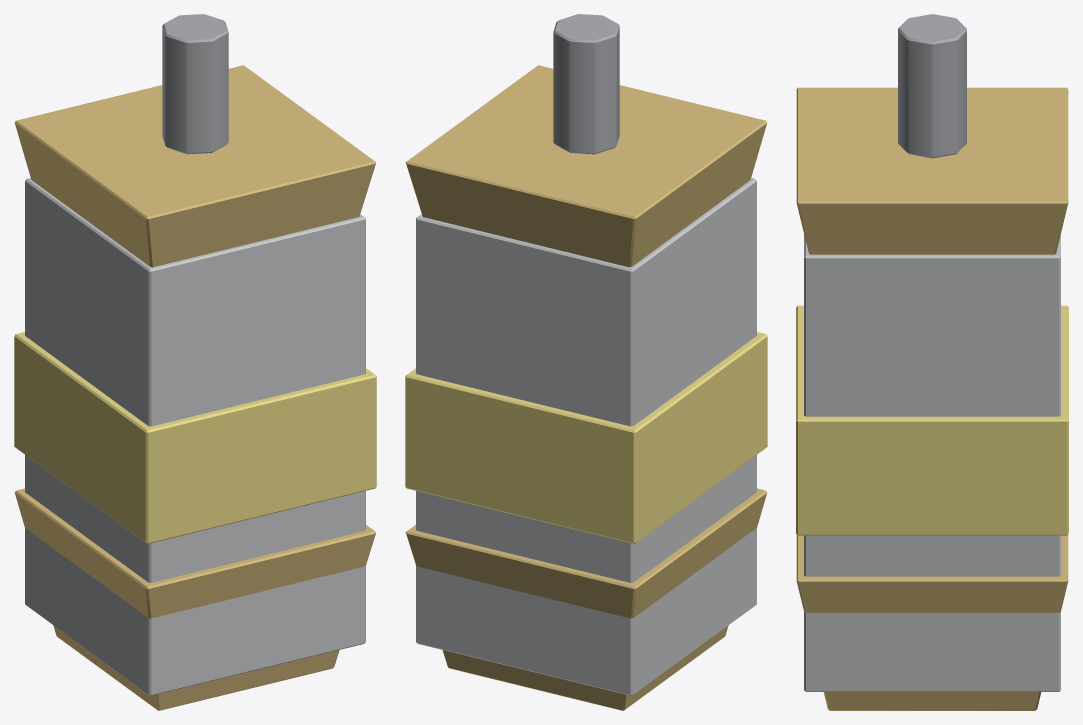
File: IT_fuse_hi.fbx
3 views of the same model, side by side, from view 1: azimuth 30°, elevation 25°; view 2: azimuth 150°, elevation 25°; view 3: azimuth 270°, elevation 25° (orthographic). The views are drawn at different scales.
Parts seen in each view (by area): view 1: IT_fuse_hi; view 2: IT_fuse_hi; view 3: IT_fuse_hi.
Part boxes in pixels (x1,y1,x2,y2): IT_fuse_hi: (14, 14, 376, 710); IT_fuse_hi: (405, 14, 767, 710); IT_fuse_hi: (796, 14, 1068, 710).
Bounding box in the file's own units: 0.17 × 0.44 × 0.17.
